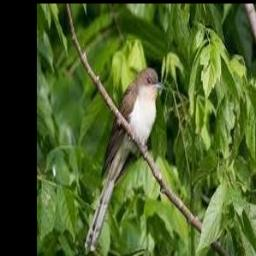Cuckoo: (83, 67, 163, 254)
